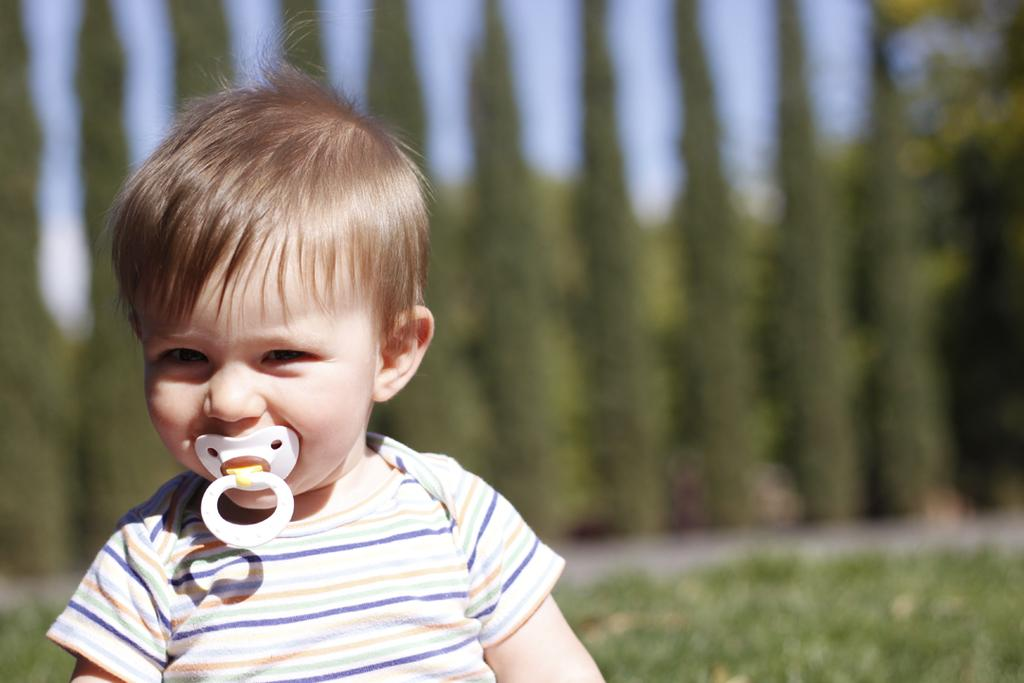Sem Máscara: (142, 243, 379, 509)
